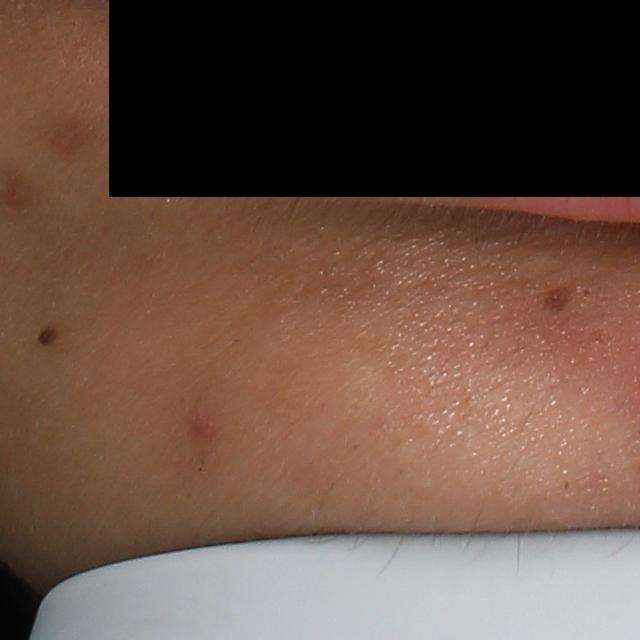nevus: (36, 325, 58, 345)
papule: (188, 407, 215, 442)
